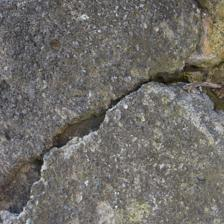Crack: (1, 80, 108, 137), (50, 92, 159, 138)
